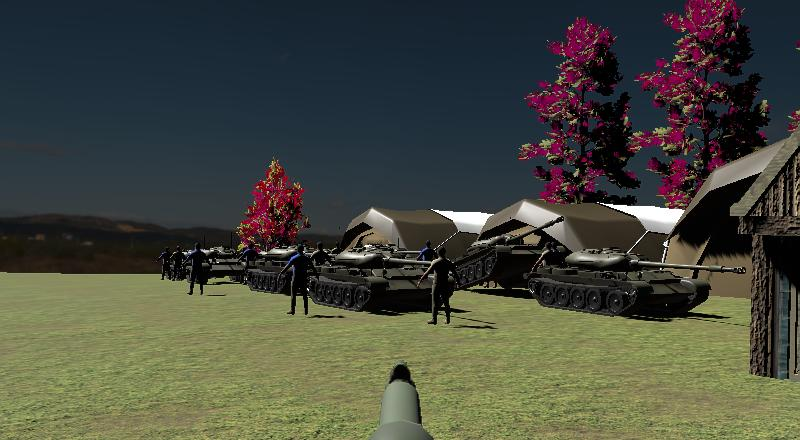Tank: (529, 240, 749, 324), (307, 242, 452, 315), (452, 213, 568, 292), (245, 242, 318, 296)
